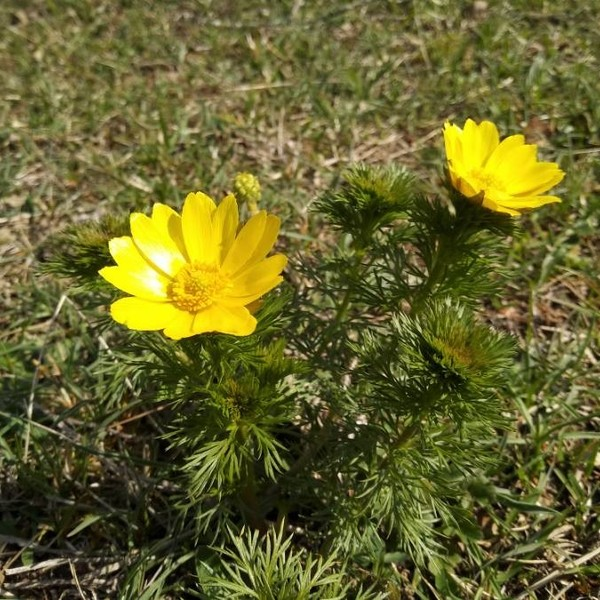obstacle: (338, 101, 542, 467), (110, 178, 315, 492)
